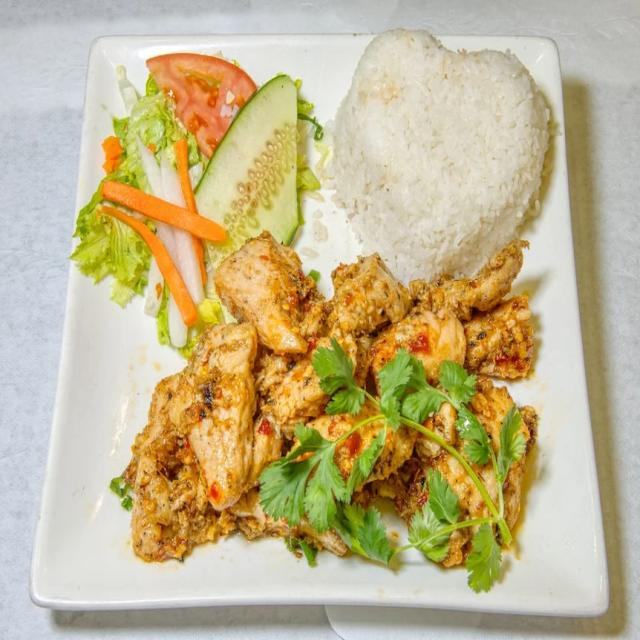com: (323, 30, 549, 280)
ga kho: (122, 232, 531, 561)
